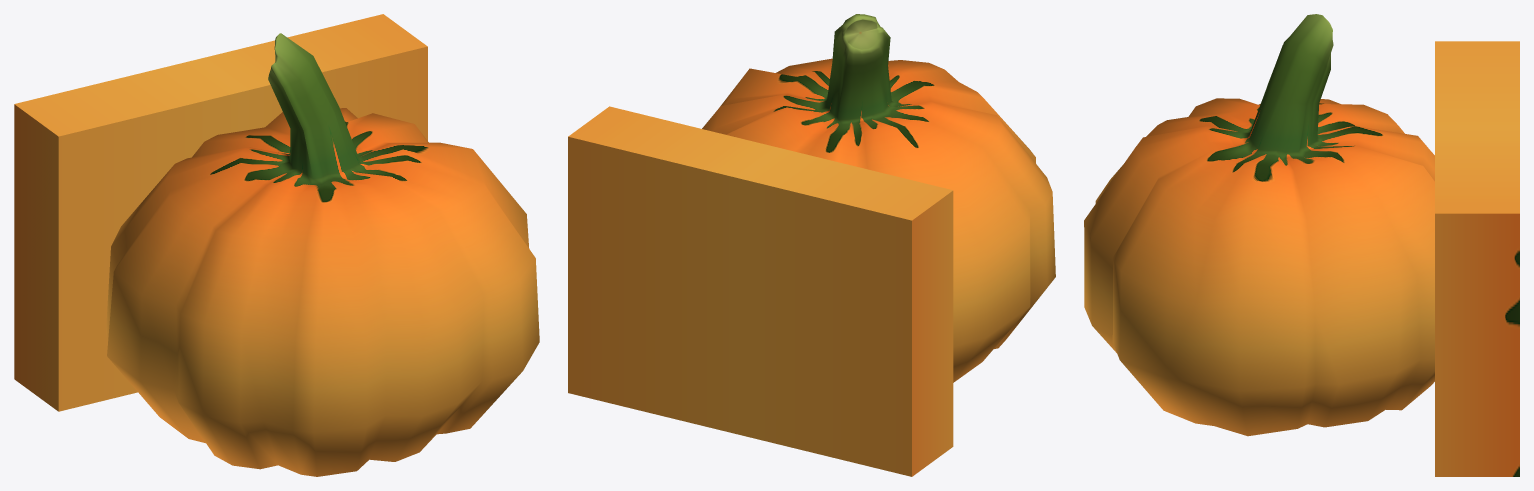
Rendered from PUM.fbx.
The picture shows the model from 3 angles, left to right: view 1: azimuth 30°, elevation 25°; view 2: azimuth 150°, elevation 25°; view 3: azimuth 270°, elevation 25°; orthographic projection. The views are drawn at different scales.
Parts seen in each view (by area): view 1: pumpkinA, pCube1; view 2: pCube1, pumpkinA; view 3: pumpkinA, pCube1.
Boxes of the visible parts, x1=… form: pumpkinA: x1=106, y1=33, x2=539, y2=476; pCube1: x1=14, y1=14, x2=427, y2=411; pCube1: x1=568, y1=106, x2=953, y2=476; pumpkinA: x1=702, y1=14, x2=1055, y2=382; pumpkinA: x1=1084, y1=14, x2=1434, y2=436; pCube1: x1=1435, y1=41, x2=1519, y2=476.
Size of the model in its own units: 97.29 by 95.95 by 104.
